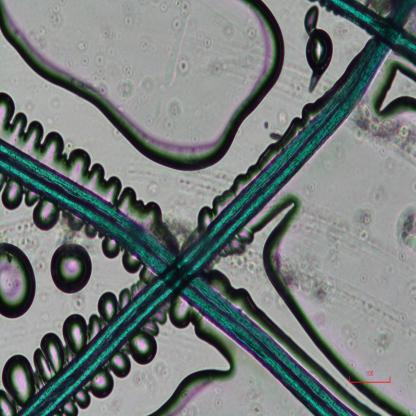Air bubble: (0, 0, 285, 173), (222, 206, 404, 415), (131, 334, 243, 415), (301, 4, 334, 94), (0, 241, 36, 318), (0, 95, 40, 150), (39, 133, 91, 175), (50, 244, 93, 294), (379, 62, 416, 120), (121, 182, 162, 224), (3, 354, 35, 407), (32, 330, 64, 381), (61, 314, 87, 356), (91, 166, 122, 198), (33, 199, 59, 233), (129, 333, 156, 365), (96, 289, 118, 325), (2, 177, 24, 211), (91, 372, 114, 400), (111, 353, 133, 381), (120, 252, 141, 276), (102, 235, 119, 260), (0, 390, 16, 415), (22, 189, 39, 209), (87, 314, 101, 336), (76, 389, 90, 409), (64, 402, 78, 414)
Background material: (354, 108, 416, 166), (275, 251, 332, 304), (80, 17, 119, 93), (106, 62, 160, 99), (364, 295, 393, 358), (303, 209, 344, 251), (349, 197, 379, 252), (391, 199, 416, 256), (161, 1, 198, 37), (234, 250, 266, 280), (160, 101, 187, 135), (46, 1, 71, 35), (15, 219, 38, 250), (30, 20, 52, 48), (301, 174, 319, 202), (119, 0, 135, 30), (271, 105, 291, 128), (174, 58, 191, 85), (204, 57, 223, 79), (194, 34, 213, 52), (33, 250, 47, 273)
Microfibre: (19, 2, 414, 414), (0, 137, 357, 415), (326, 0, 416, 63)
